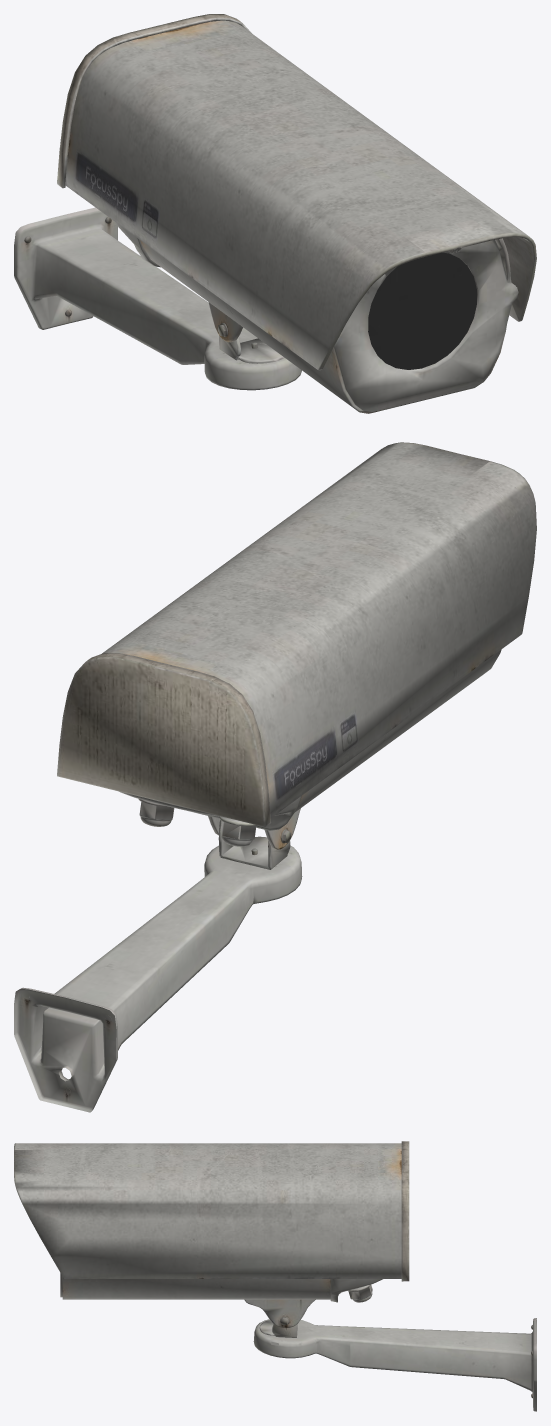
File: security_camera_01.glb
3 renders of one model, top to bottom at view 1: azimuth 30°, elevation 25°; view 2: azimuth 150°, elevation 25°; view 3: azimuth 270°, elevation 25°, orthographic. The views are drawn at different scales.
Parts seen in each view (by area): view 1: security_camera_01; view 2: security_camera_01; view 3: security_camera_01.
Boxes of the visible parts, x1=… form: security_camera_01: x1=14, y1=14, x2=536, y2=413; security_camera_01: x1=14, y1=442, x2=536, y2=1112; security_camera_01: x1=14, y1=1141, x2=536, y2=1411.
Size of the model in its own units: 0.1696 by 0.286 by 0.5537.
Materials: 2 (2 with a texture image).
